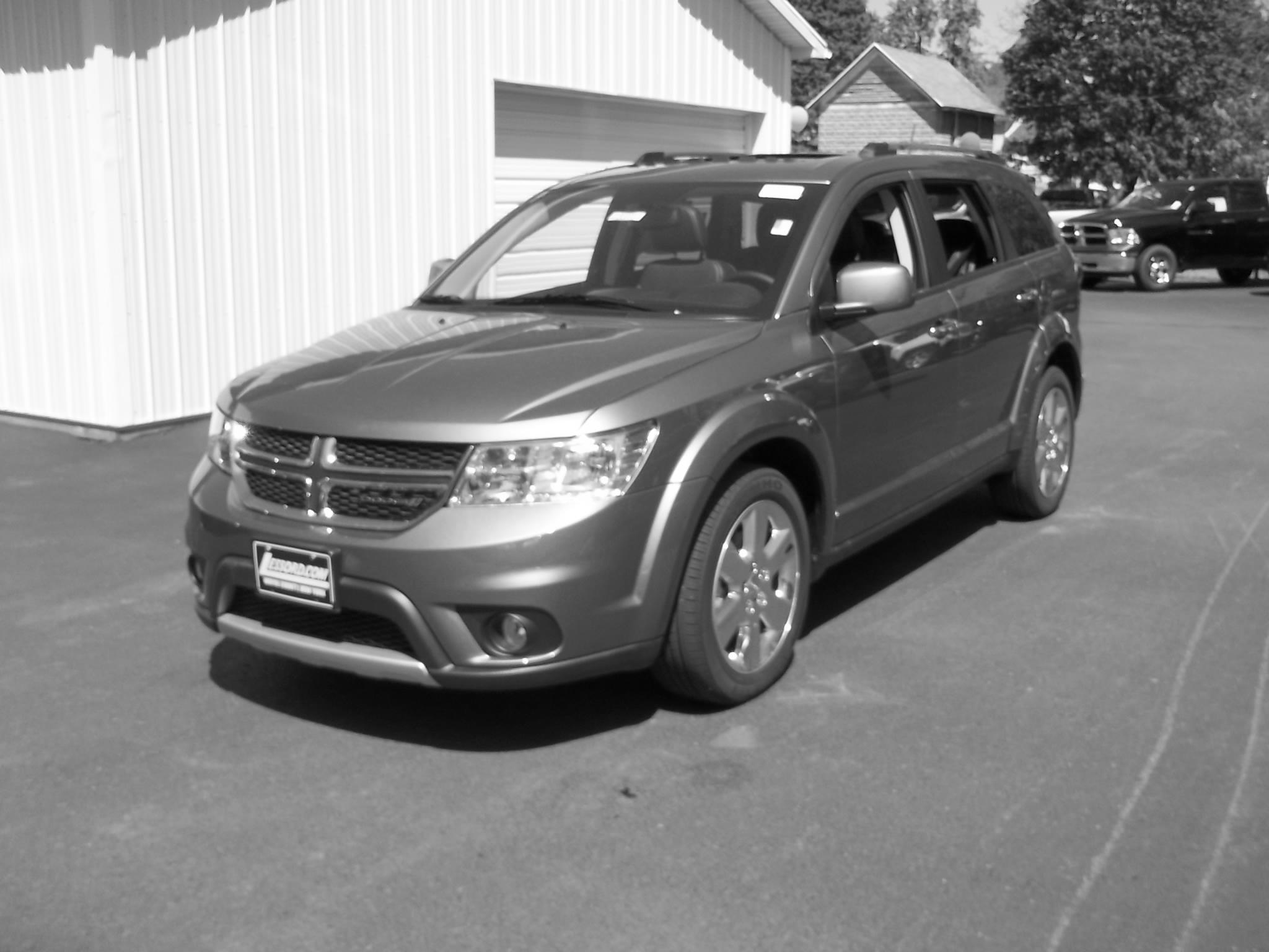car: (183, 146, 1082, 707)
